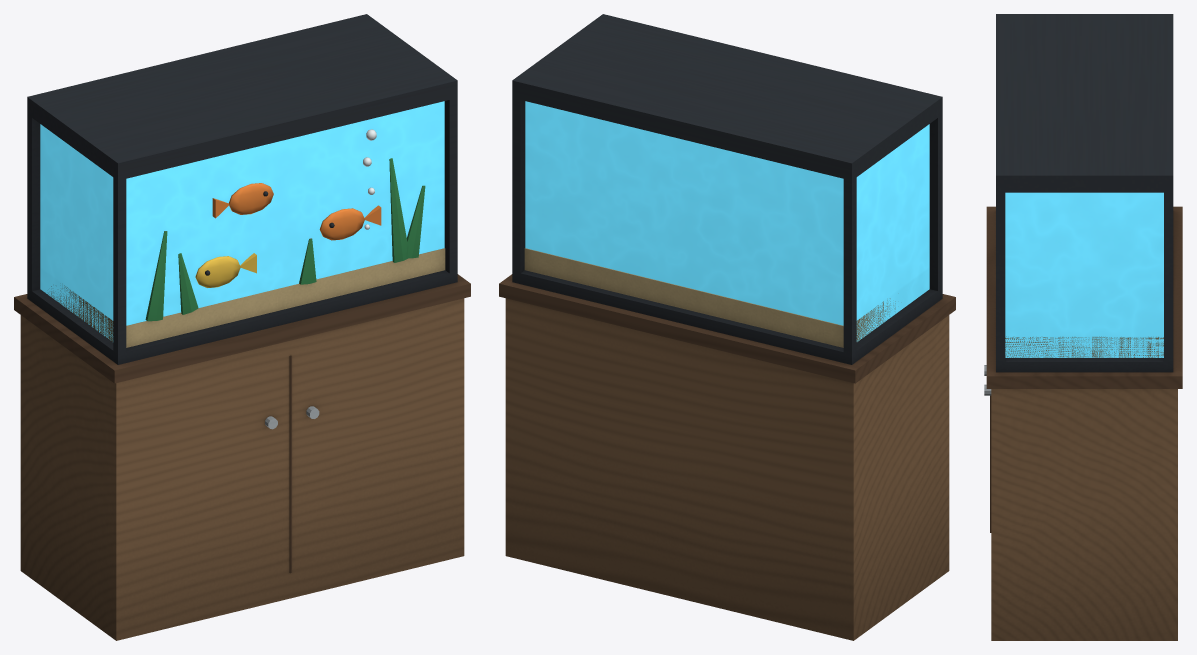
File: fish_tank.glb
The picture shows the model from 3 angles, left to right: view 1: azimuth 30°, elevation 25°; view 2: azimuth 150°, elevation 25°; view 3: azimuth 270°, elevation 25°; orthographic projection. The views are drawn at different scales.
Visible parts, largest first — view 1: fish_tank; view 2: fish_tank; view 3: fish_tank.
Part boxes in pixels (x1=…): fish_tank: x1=14, y1=14, x2=470, y2=640; fish_tank: x1=499, y1=14, x2=955, y2=640; fish_tank: x1=984, y1=14, x2=1182, y2=640.
Size of the model in its own units: 0.86 by 1.1 by 0.425.
10 materials, 10 textured.
